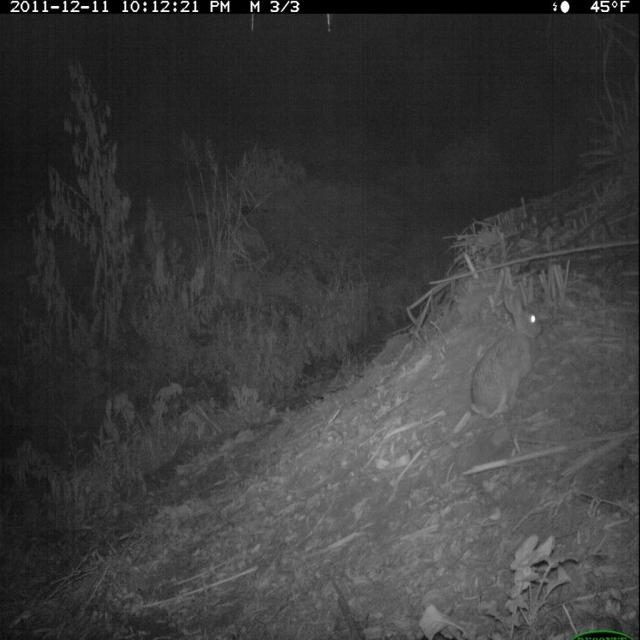rabbit: (466, 280, 548, 448)
